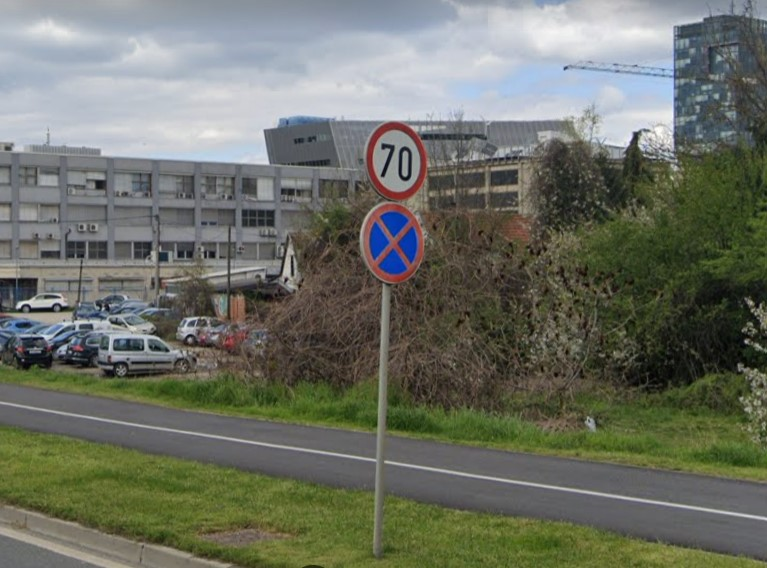Ograničenje brzine 70: (364, 121, 428, 202)
